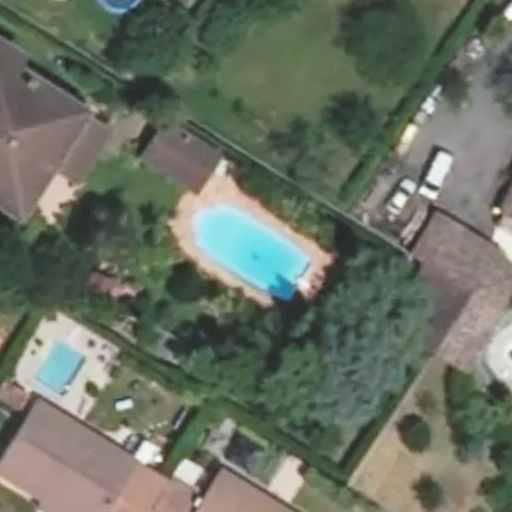pool: (183, 231, 317, 246)
